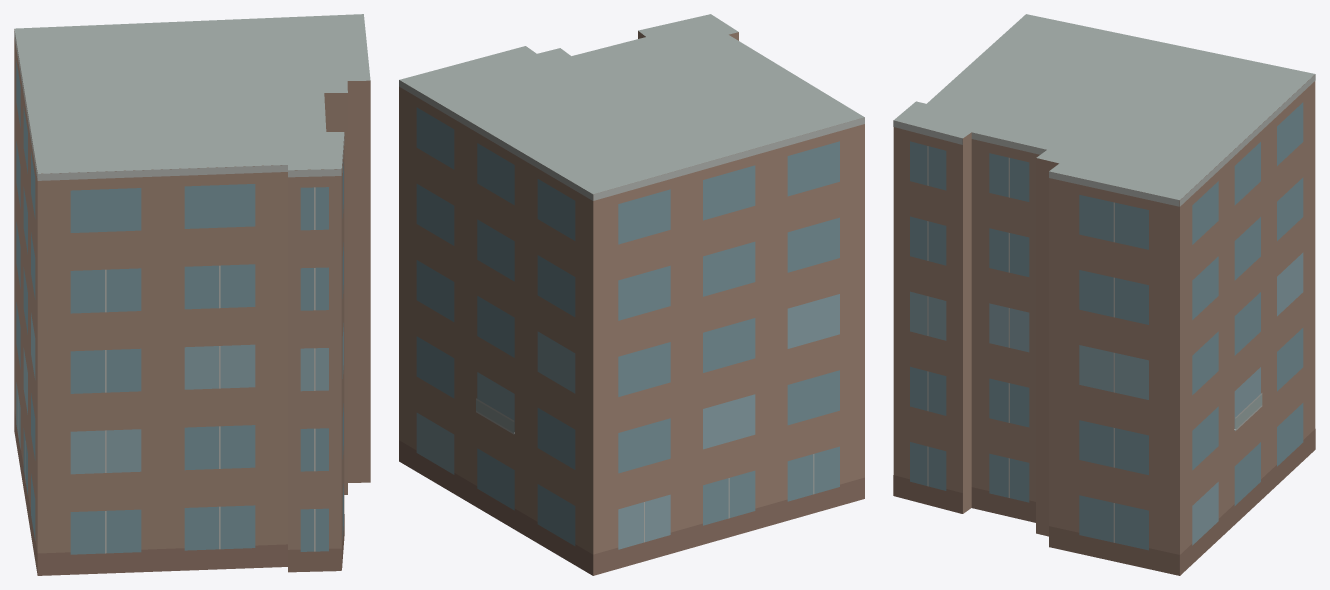
The model's file is survey-upis-32881824.glb.
The picture shows the model from 3 angles, left to right: view 1: azimuth 30°, elevation 25°; view 2: azimuth 150°, elevation 25°; view 3: azimuth 270°, elevation 25°; orthographic projection. The views are drawn at different scales.
Parts seen in each view (by area): view 1: survey-upis-32881824.tmp; view 2: survey-upis-32881824.tmp; view 3: survey-upis-32881824.tmp.
Part boxes in pixels (<box>): survey-upis-32881824.tmp: <box>14,14,370,575</box>; survey-upis-32881824.tmp: <box>399,14,864,575</box>; survey-upis-32881824.tmp: <box>893,14,1315,575</box>.
Bounding box in the file's own units: 14.79 × 13.9 × 14.16.
